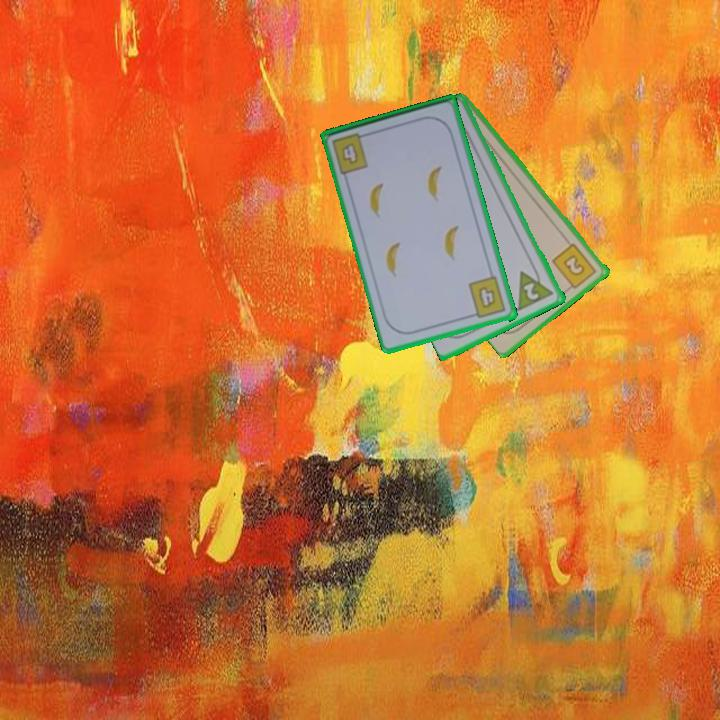2b: (549, 240, 600, 294)
2p: (514, 262, 557, 313)
4b: (465, 273, 509, 321), (338, 139, 362, 168)
